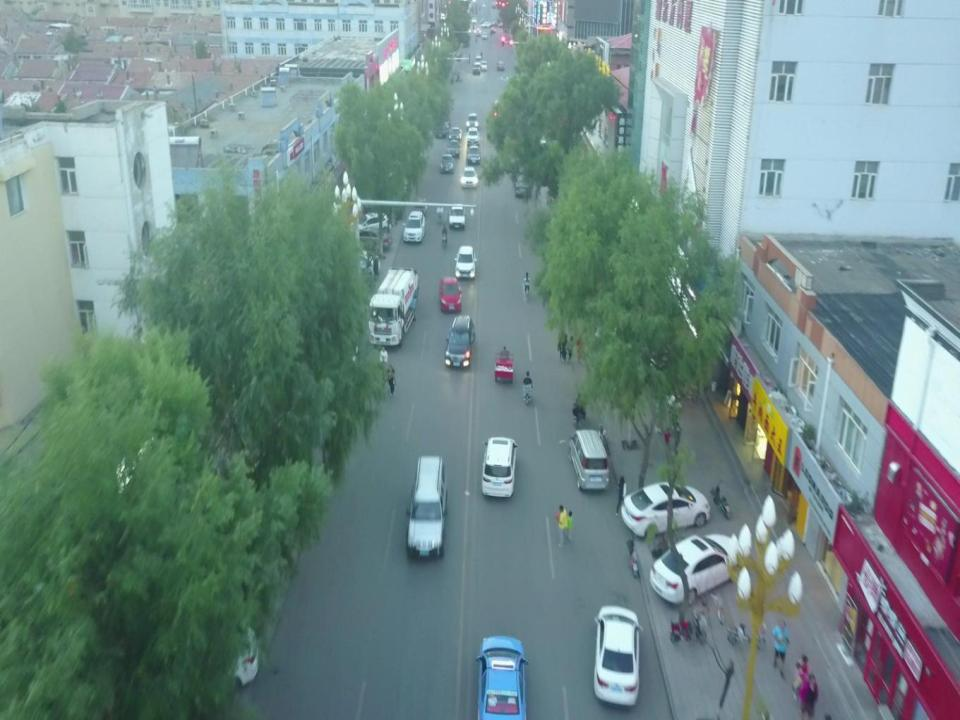car: (99, 617, 260, 688), (648, 533, 742, 607), (592, 604, 643, 707), (621, 481, 710, 539), (475, 635, 529, 720), (614, 316, 670, 372), (482, 436, 520, 498), (444, 314, 475, 369), (322, 250, 380, 278), (340, 213, 392, 237), (340, 227, 393, 249), (438, 277, 463, 313), (402, 210, 426, 245), (454, 246, 477, 279), (512, 172, 532, 198), (448, 202, 466, 230), (461, 167, 478, 188), (434, 118, 449, 138), (440, 154, 454, 174), (466, 145, 480, 165), (446, 139, 461, 157), (466, 127, 480, 145), (466, 113, 478, 131), (449, 127, 462, 142), (496, 60, 505, 71)
truck: (368, 267, 419, 349), (472, 61, 482, 75)
van: (404, 455, 447, 560), (302, 256, 376, 294), (568, 428, 609, 491), (475, 55, 481, 67), (481, 61, 487, 71)
